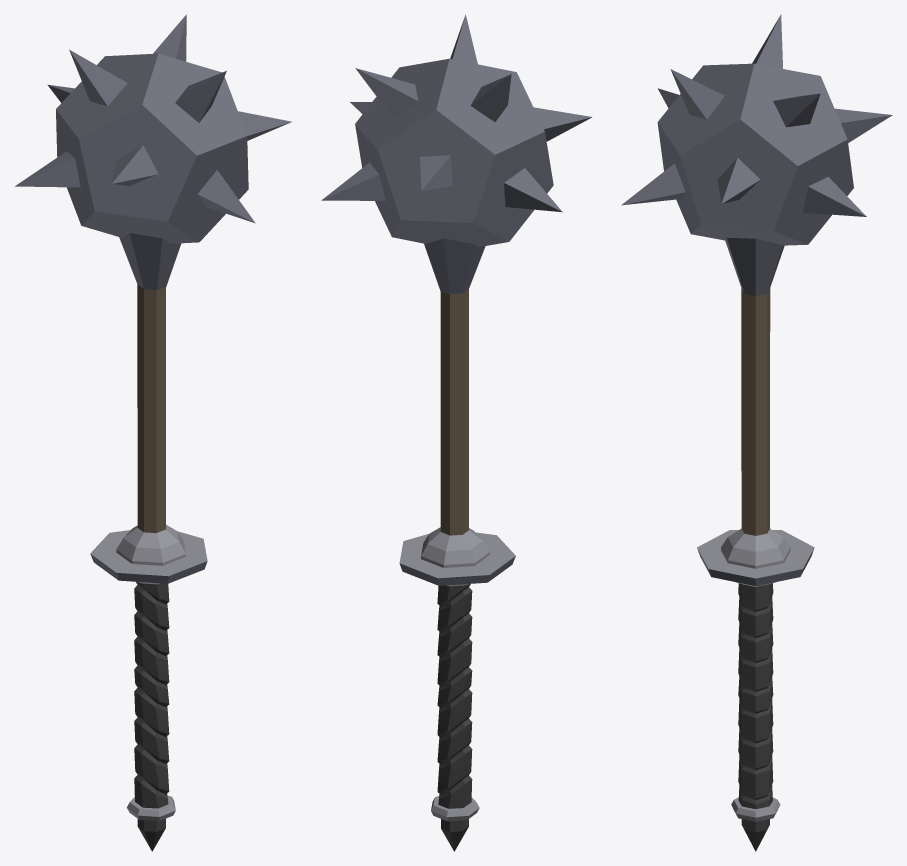
File: _MACE.fbx
3 renders of one model, left to right at view 1: azimuth 30°, elevation 25°; view 2: azimuth 150°, elevation 25°; view 3: azimuth 270°, elevation 25°, orthographic.
Visible parts, largest first — view 1: MACE; view 2: MACE; view 3: MACE.
Part boxes in pixels (bbox=[...]): MACE: bbox=[15, 14, 291, 851]; MACE: bbox=[321, 14, 592, 851]; MACE: bbox=[621, 14, 892, 851].
Size of the model in its own units: 33.18 by 104 by 31.98.
